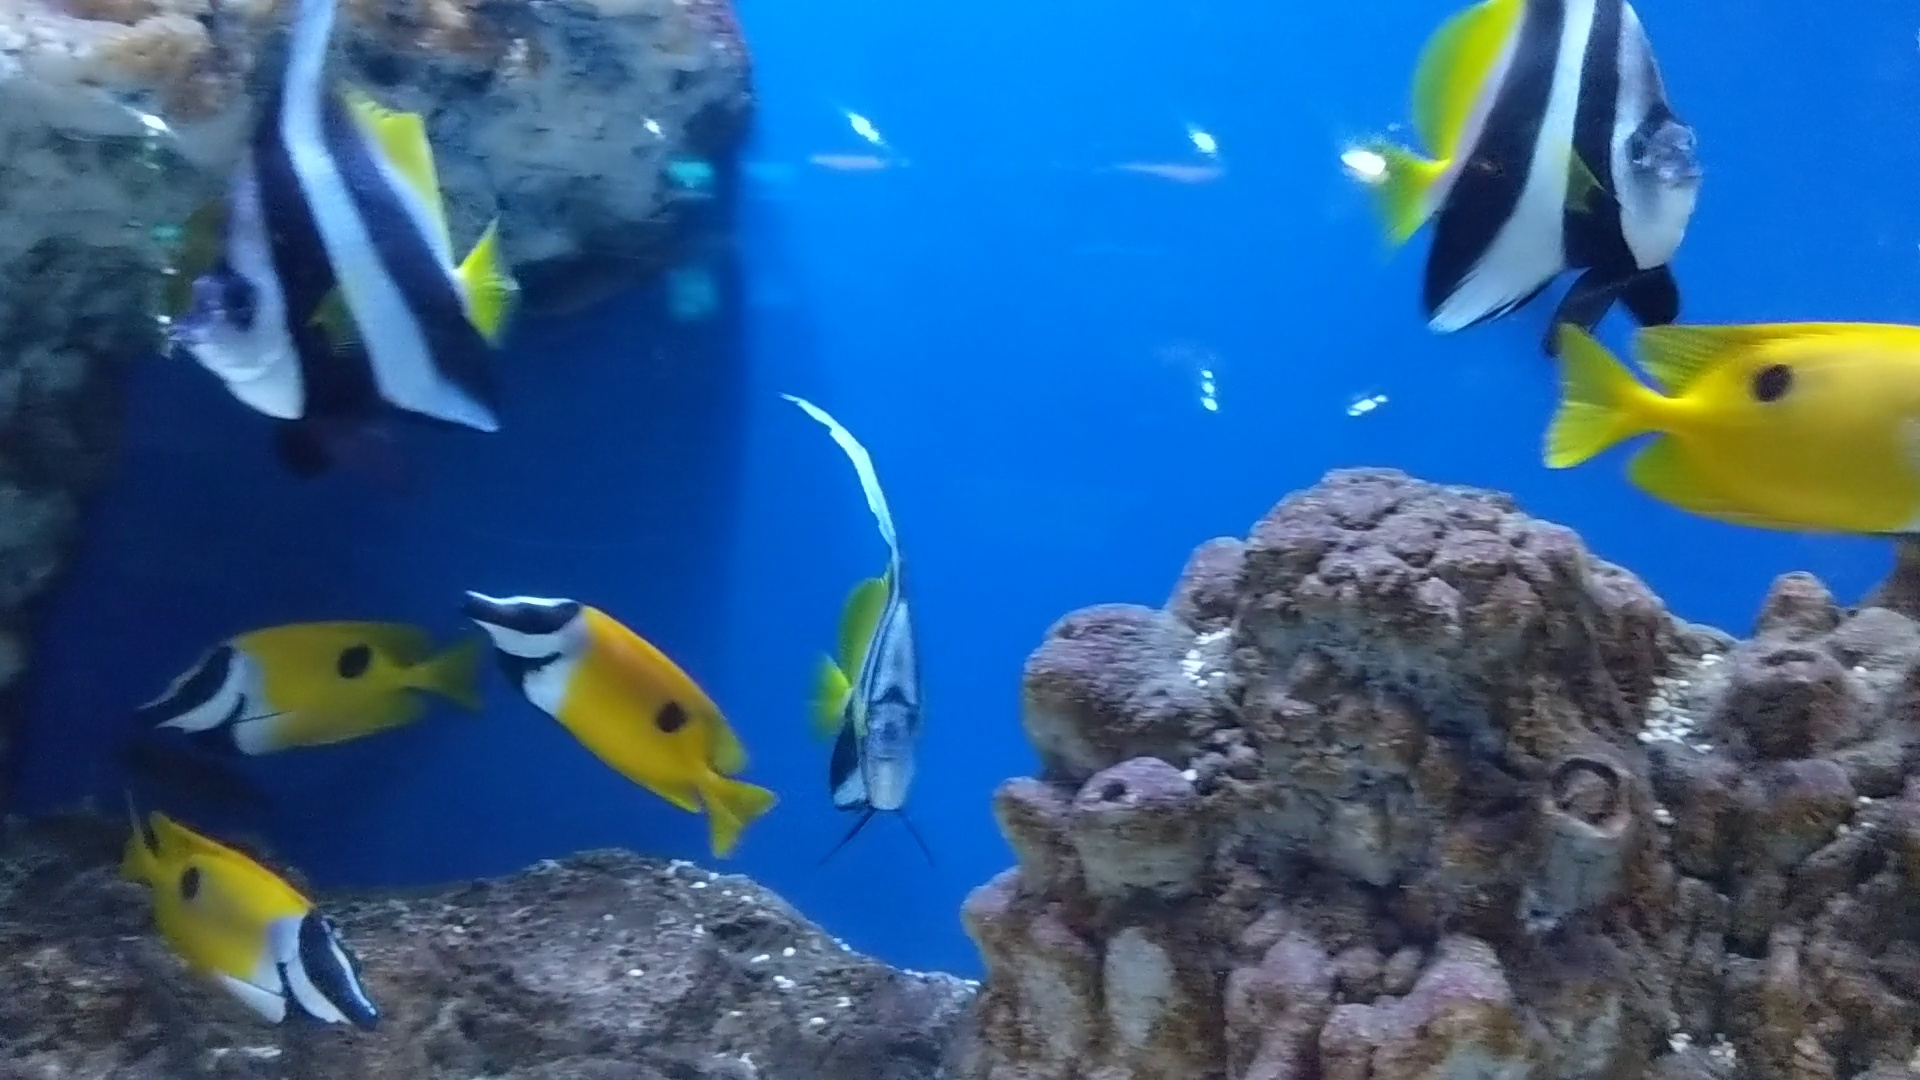moorfish: (173, 11, 545, 464), (1350, 3, 1706, 375), (765, 394, 944, 858)
rabbitfish: (471, 556, 773, 866), (1532, 294, 1919, 530), (119, 804, 382, 1036), (135, 611, 471, 758)
